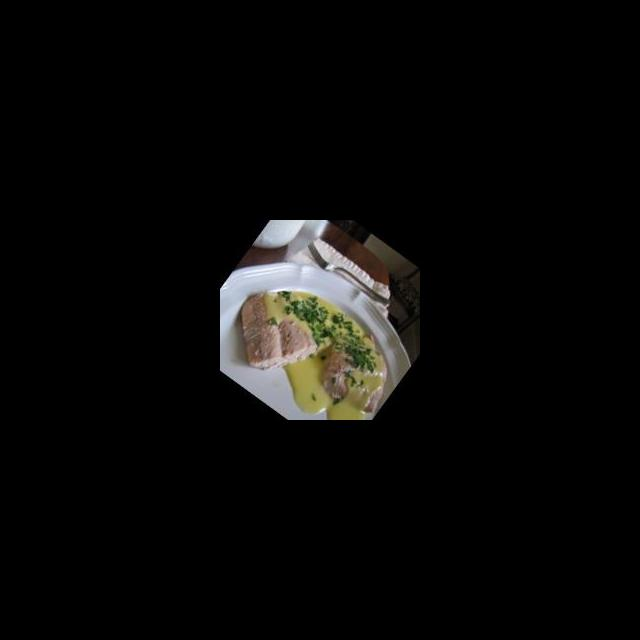ca hoi: (220, 262, 409, 420)
